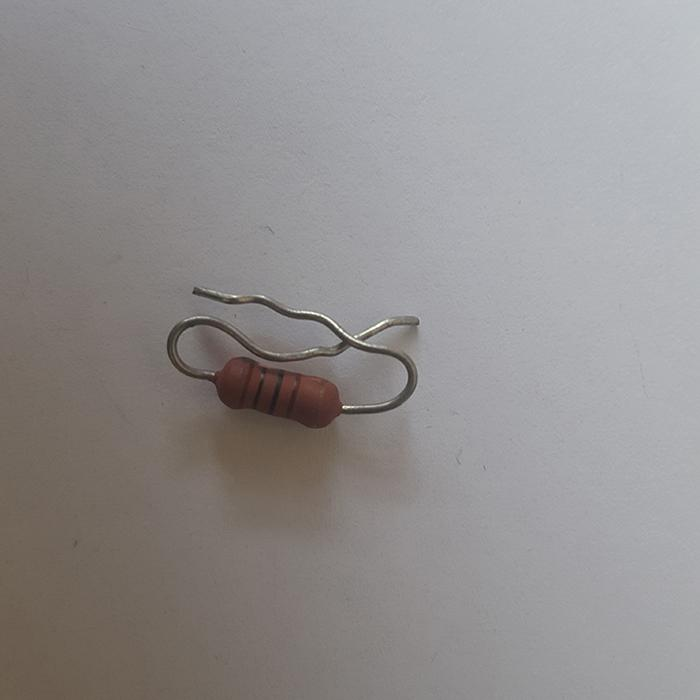resistor: (212, 356, 343, 429)
